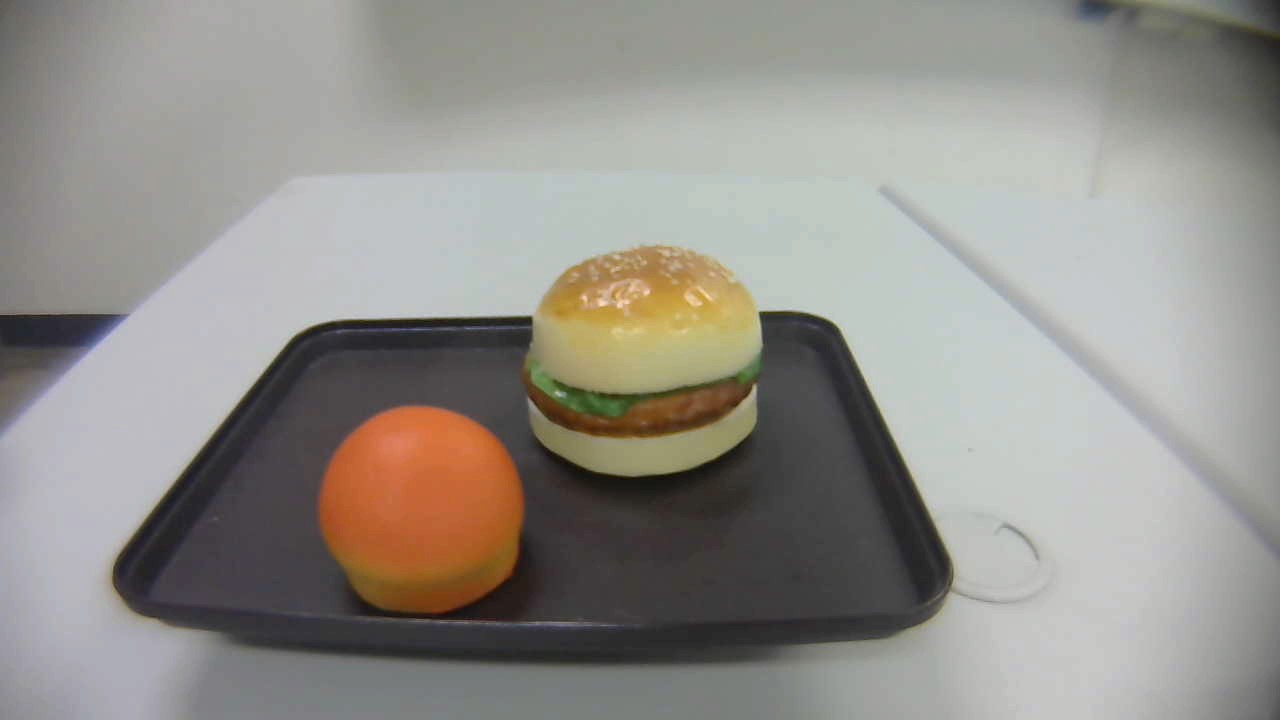bun: (319, 405, 524, 613)
hamburger: (524, 242, 764, 479)
